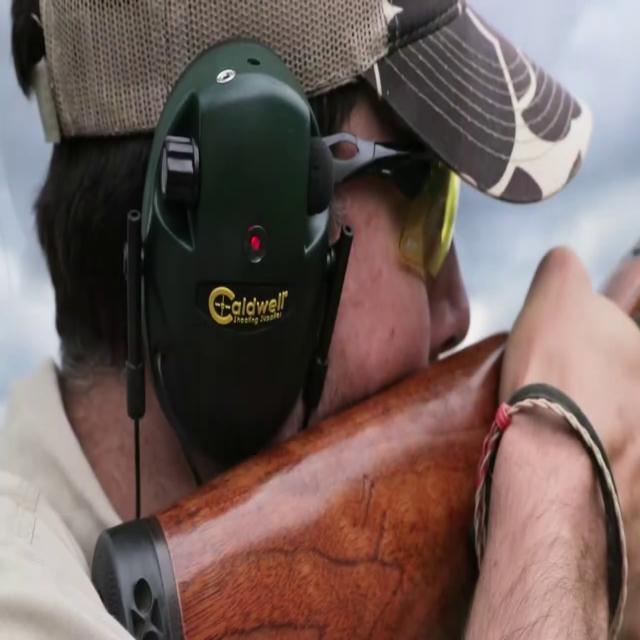earmuff: (122, 28, 354, 474)
